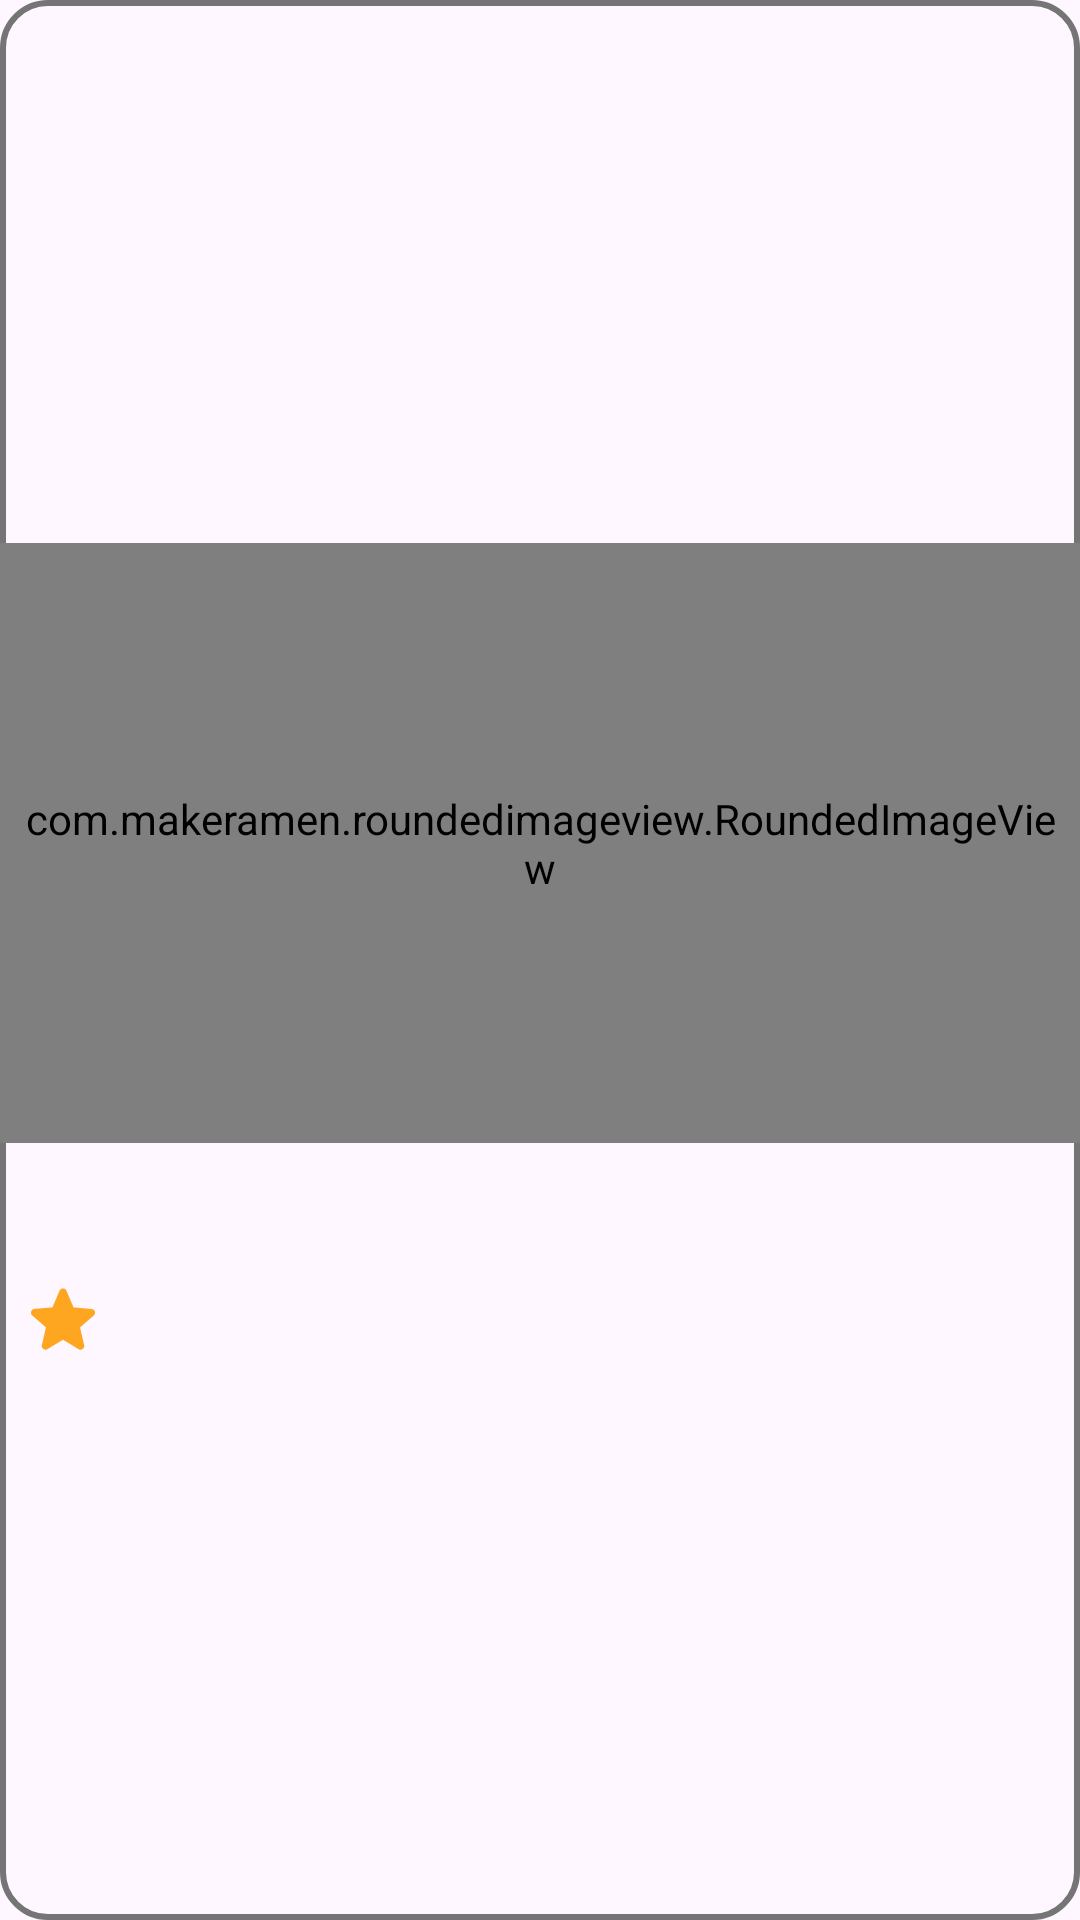

Named icons in this screenshot (1080px x 1920px) and their centers, (x,y):
star: (63,1319)
